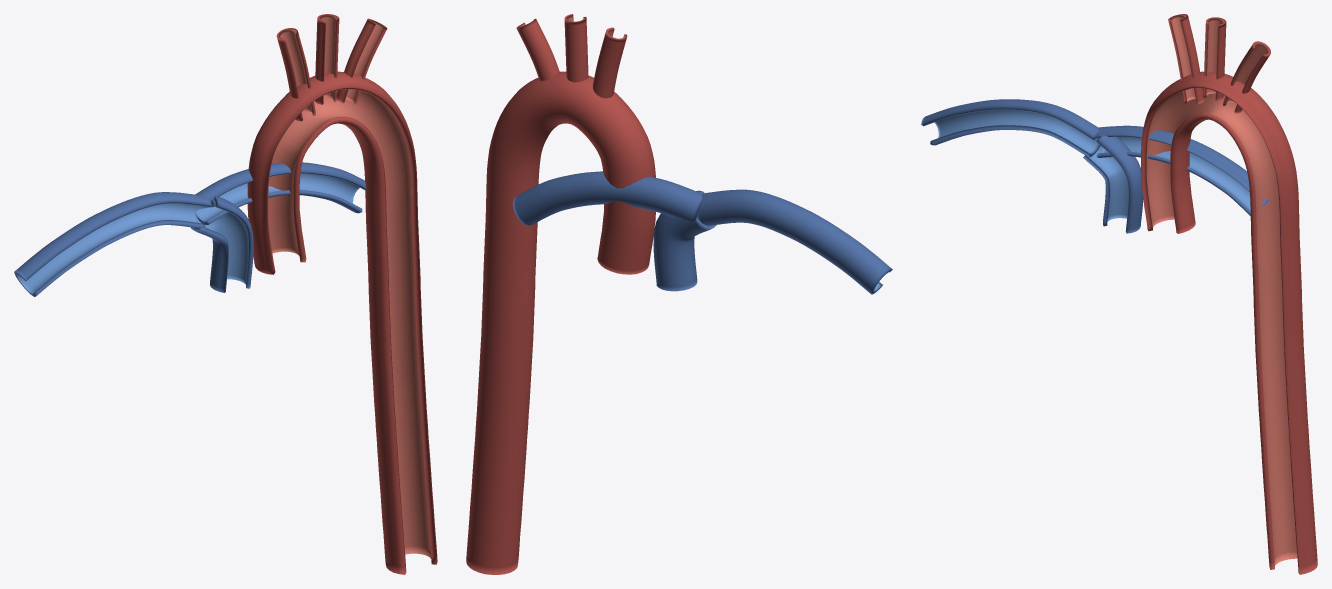
File: heart-great-vessels.glb
The picture shows the model from 3 angles, left to right: view 1: azimuth 30°, elevation 25°; view 2: azimuth 150°, elevation 25°; view 3: azimuth 330°, elevation 25°; orthographic projection. The views are drawn at different scales.
Parts seen in each view (by area): view 1: Heart_Aorta_OpenLumen, Heart_PulmonaryArtery_2, Heart_PulmonaryArtery_3, Heart_PulmonaryArtery_1, Heart_AorticBranch_3, Heart_AorticBranch_2, Heart_AorticBranch_1; view 2: Heart_Aorta_OpenLumen, Heart_PulmonaryArtery_2, Heart_PulmonaryArtery_3, Heart_PulmonaryArtery_1, Heart_AorticBranch_1, Heart_AorticBranch_2, Heart_AorticBranch_3; view 3: Heart_Aorta_OpenLumen, Heart_PulmonaryArtery_2, Heart_PulmonaryArtery_3, Heart_PulmonaryArtery_1, Heart_AorticBranch_1, Heart_AorticBranch_2, Heart_AorticBranch_3.
Part boxes in pixels (<box>): Heart_Aorta_OpenLumen: <box>247,71,437,574</box>; Heart_PulmonaryArtery_2: <box>14,192,211,296</box>; Heart_PulmonaryArtery_3: <box>195,162,366,224</box>; Heart_PulmonaryArtery_1: <box>190,196,253,292</box>; Heart_AorticBranch_3: <box>336,18,387,104</box>; Heart_AorticBranch_2: <box>315,14,339,104</box>; Heart_AorticBranch_1: <box>276,28,315,121</box>; Heart_Aorta_OpenLumen: <box>466,71,655,574</box>; Heart_PulmonaryArtery_2: <box>697,189,892,294</box>; Heart_PulmonaryArtery_3: <box>513,171,702,225</box>; Heart_PulmonaryArtery_1: <box>653,190,716,291</box>; Heart_AorticBranch_1: <box>592,27,627,98</box>; Heart_AorticBranch_2: <box>564,14,588,82</box>; Heart_AorticBranch_3: <box>516,18,559,80</box>; Heart_Aorta_OpenLumen: <box>1141,71,1317,574</box>; Heart_PulmonaryArtery_2: <box>921,99,1100,157</box>; Heart_PulmonaryArtery_3: <box>1096,125,1269,215</box>; Heart_PulmonaryArtery_1: <box>1083,134,1143,233</box>; Heart_AorticBranch_1: <box>1168,14,1204,104</box>; Heart_AorticBranch_2: <box>1203,17,1226,101</box>; Heart_AorticBranch_3: <box>1223,41,1270,113</box>.
Size of the model in its own units: 3.06 by 3.97 by 0.3322.
